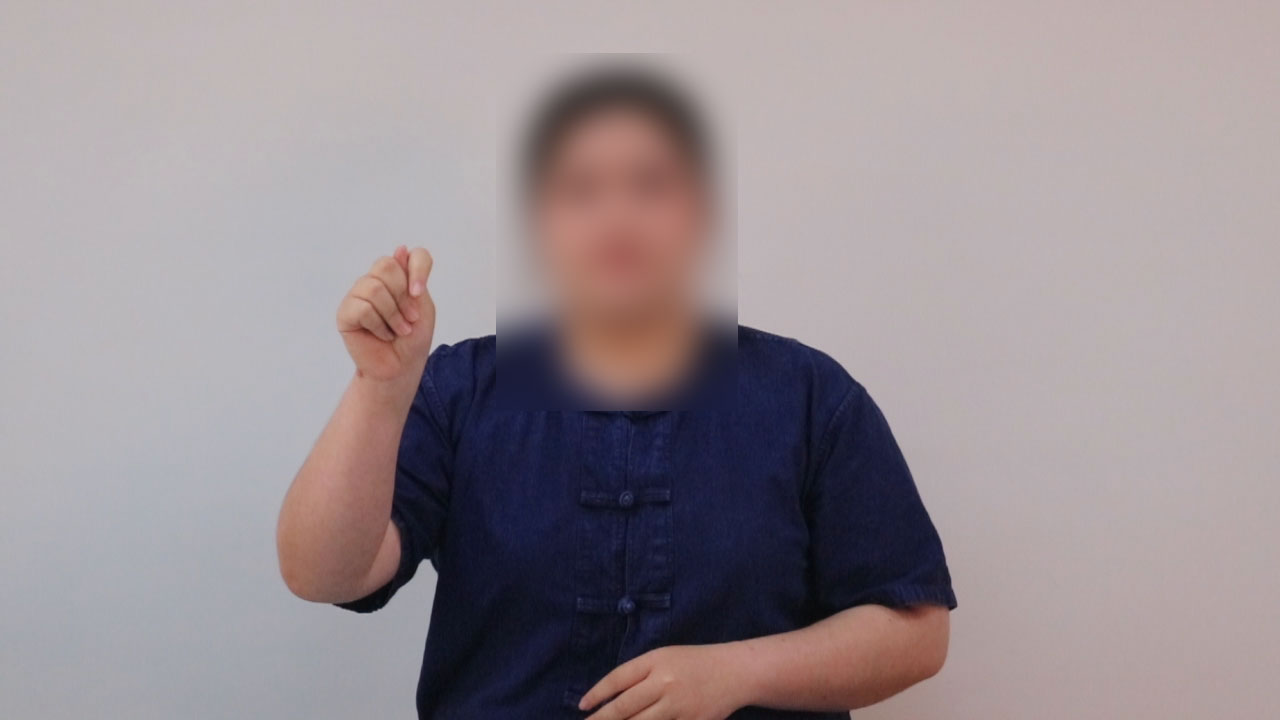tor: (311, 238, 469, 403)
